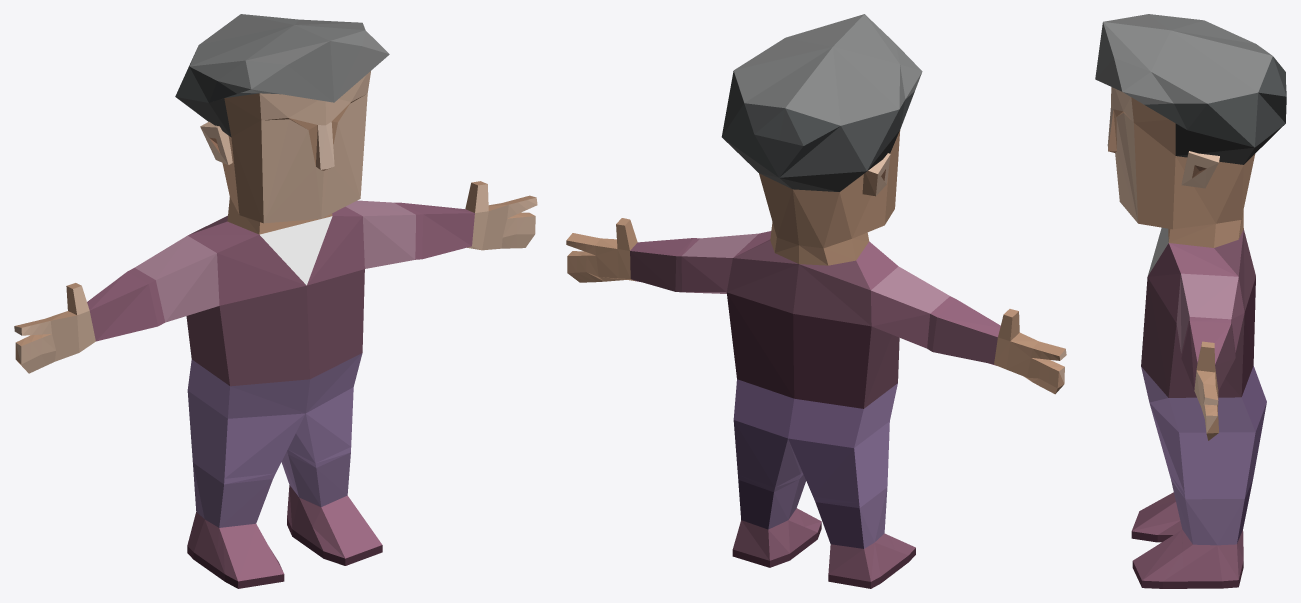
The model's file is entp.glb.
The picture shows the model from 3 angles, left to right: view 1: azimuth 30°, elevation 25°; view 2: azimuth 150°, elevation 25°; view 3: azimuth 270°, elevation 25°; orthographic projection. The views are drawn at different scales.
Visible parts, largest first — view 1: entp; view 2: entp; view 3: entp.
Boxes of the visible parts, left/top/right/bottom form: entp: left=14, top=14, right=537, bottom=588; entp: left=566, top=14, right=1066, bottom=588; entp: left=1095, top=14, right=1286, bottom=588.
Bounding box in the file's own units: 10.12 × 10.1 × 3.3.
2 materials, 2 textured.
